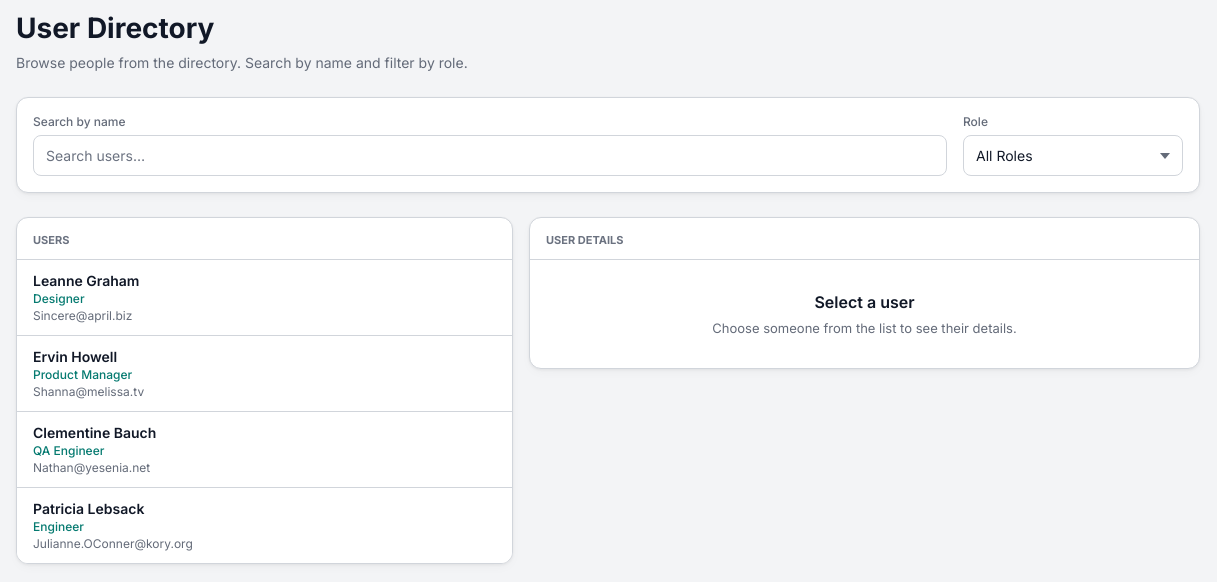
it: User Directory › shows details for the selected user
Check: the list named "Users" is shown, box x1=17 y1=260 x2=512 y2=562
Check: the text "Select a user" is shown, box x1=814 y1=292 x2=914 y2=312
Click the button "Ervin Howell Product Manager Shanna@melissa.tv": (75, 356) x1=17 y1=336 x2=512 y2=410
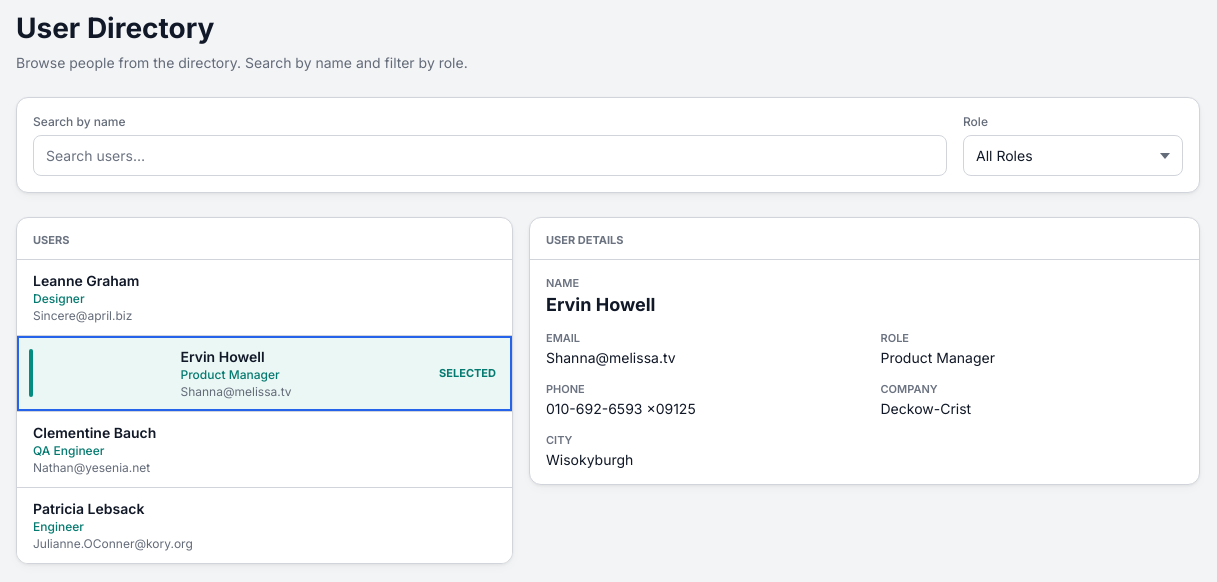
Check: the text "Ervin Howell" below "User details" is shown, box x1=546 y1=294 x2=656 y2=314
Check: the text "Shanna@melissa.tv" below "Email" is shown, box x1=546 y1=348 x2=676 y2=366
Check: the text "Product Manager" below "User details" is shown, box x1=880 y1=348 x2=995 y2=366
